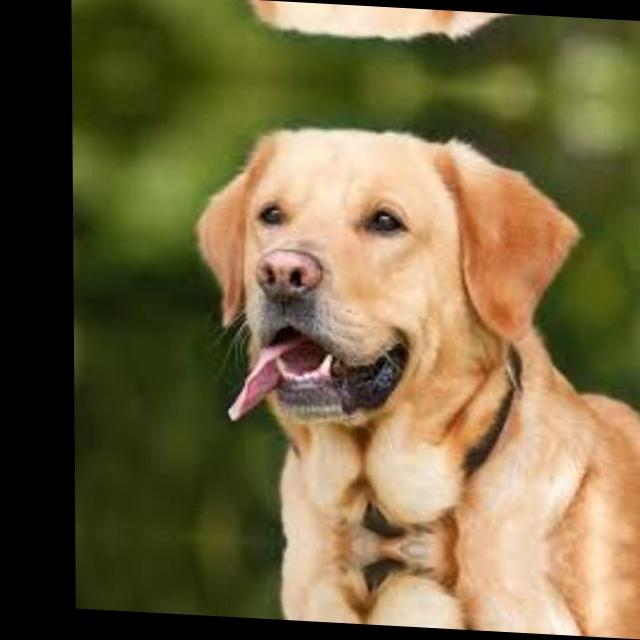dog: (187, 90, 640, 564), (191, 537, 640, 640), (187, 0, 640, 84)
